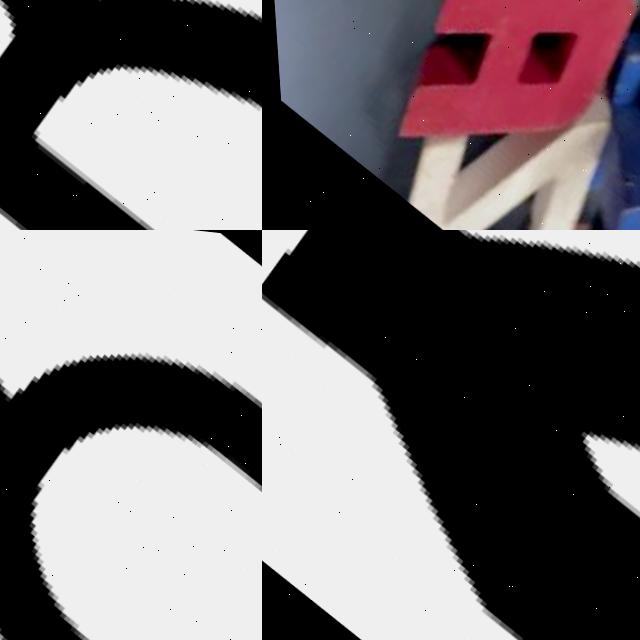A: (357, 0, 640, 213)
K: (0, 0, 262, 230)
Q: (0, 230, 262, 640)
Y: (262, 230, 640, 640)
Z: (370, 0, 640, 230)
